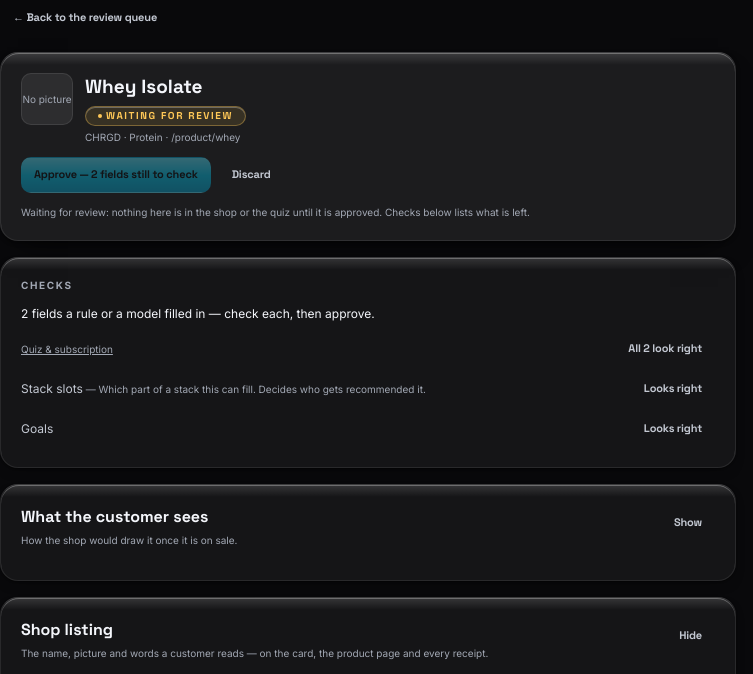
Test: the product page › lets a pending product’s machine-filled fields be checked without changing them, and only then approves
The image size is (753, 674).
Expected: the button "Approve — 2 fields still to check" is disabled, [21,157,211,193]
Click the button "All 2 look right": [665, 349] box [615,331,715,367]
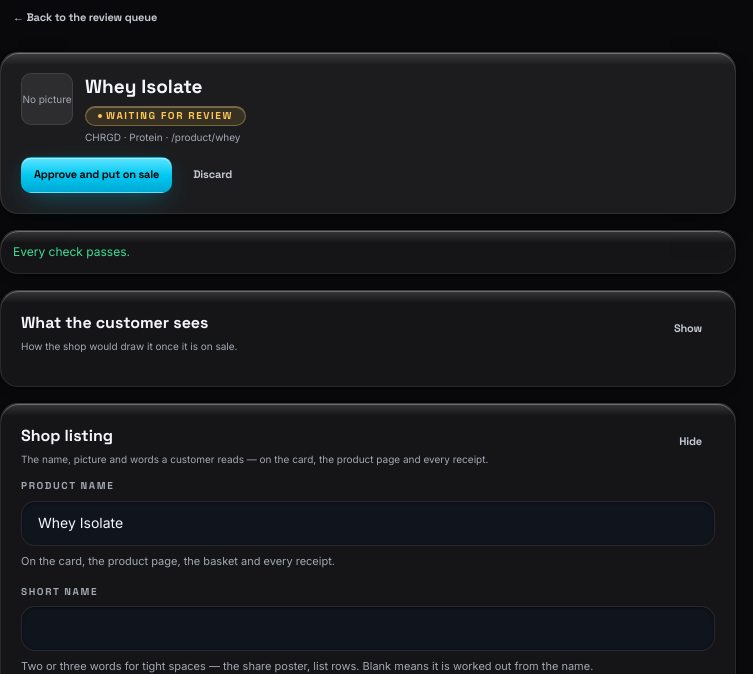
Expected: the button "Approve and put on sale" is enabled, [21,157,172,193]
